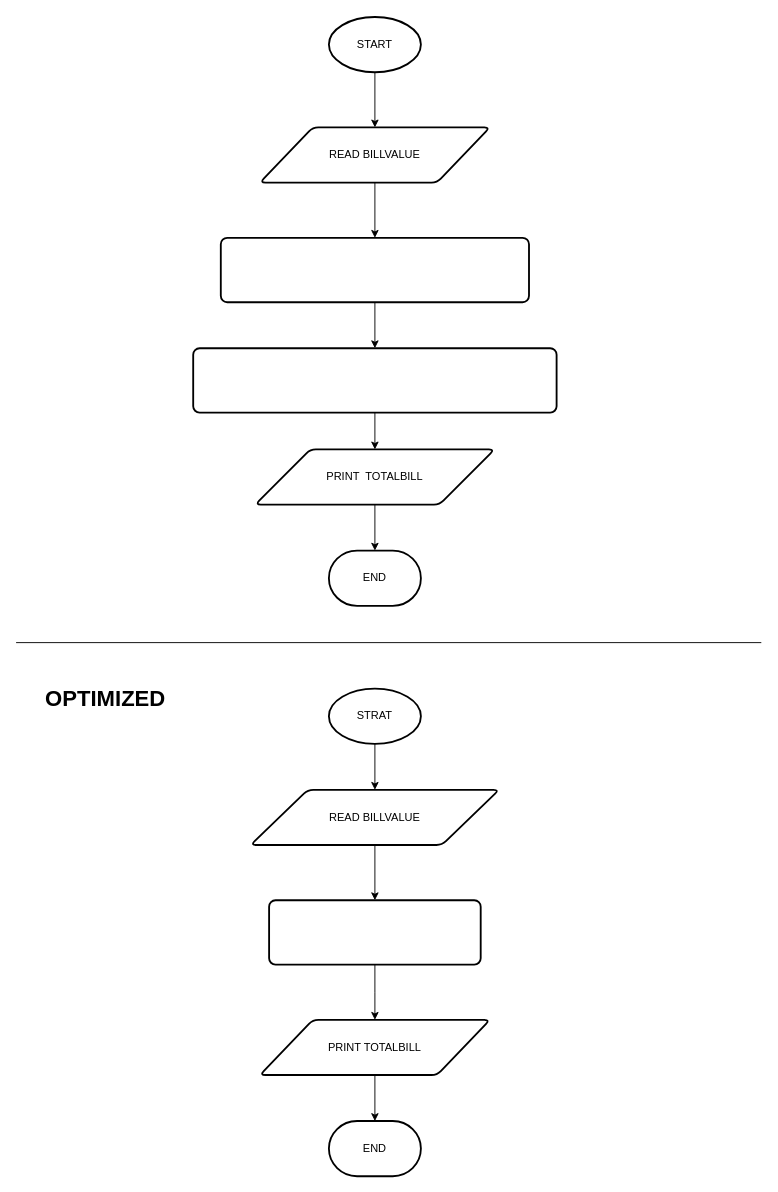
Some shapes in this 778 by 1192 pixel diagram are drawn without their labels. Each missing label, with the box of its shape:
BILLVALUE = BILLVALUE * 1.1 TOTALBILL = BILLVALUE 1.16: (268, 899, 481, 965)
SERVICEFEE= BILLVALUE +( BILLVALUE* 0.1): (219, 236, 529, 303)
TOTALBILL = SERVICEFEE + (SERVICEFEE * 0.16): (192, 347, 557, 413)
